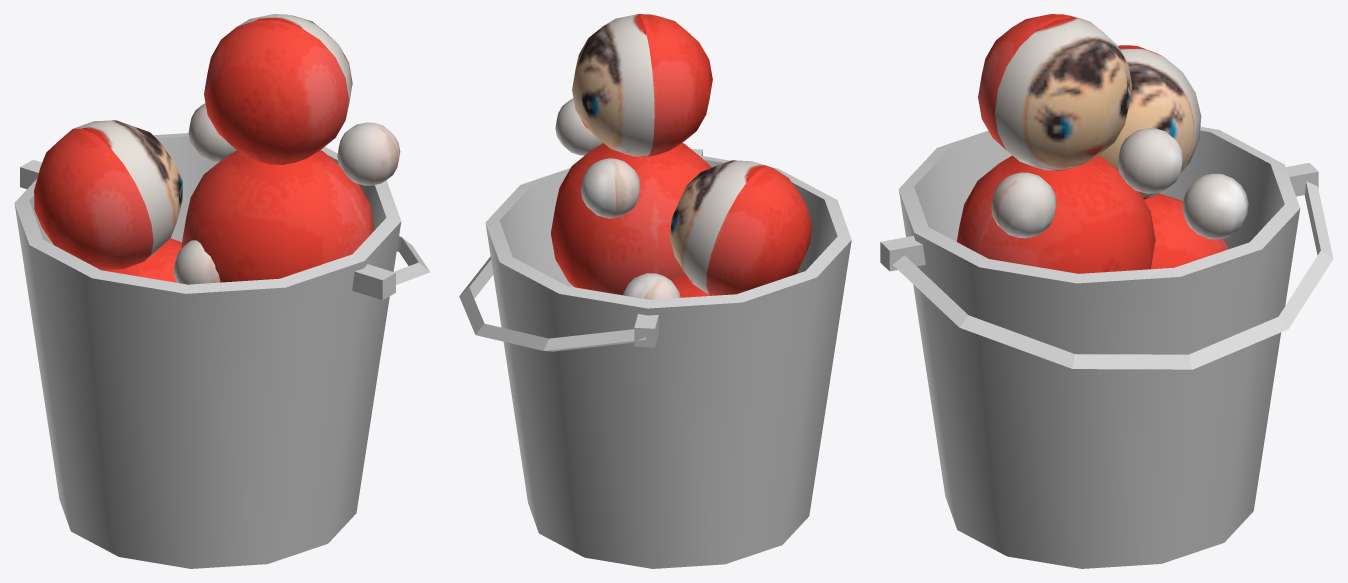
File: Bucket_with_Dolls.fbx
The picture shows the model from 3 angles, left to right: view 1: azimuth 30°, elevation 25°; view 2: azimuth 150°, elevation 25°; view 3: azimuth 270°, elevation 25°; orthographic projection. The views are drawn at different scales.
Visible parts, largest first — view 1: Cylinder.059, Sphere.001, Sphere.002; view 2: Cylinder.059, Sphere.001, Sphere.002; view 3: Cylinder.059, Sphere.001, Sphere.002.
Boxes of the visible parts, x1,y1,x2,y2 form: Cylinder.059: (14,133,429,568); Sphere.001: (181,14,400,282); Sphere.002: (34,120,220,284); Cylinder.059: (459,149,851,568); Sphere.001: (550,14,712,295); Sphere.002: (623,160,811,299); Cylinder.059: (880,126,1333,568); Sphere.001: (957,14,1182,273); Sphere.002: (1099,45,1248,269).
Size of the model in its own units: 51.67 by 67.3 by 54.39.
